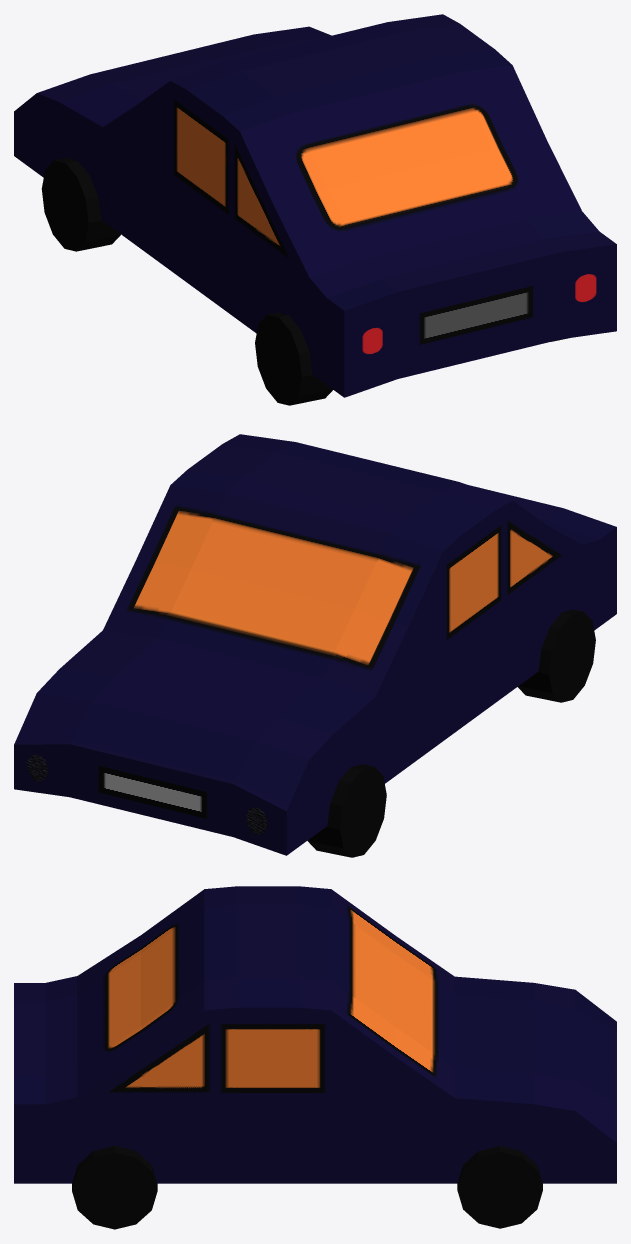
The model's file is samochód.fbx.
The picture shows the model from 3 angles, top to bottom: view 1: azimuth 30°, elevation 25°; view 2: azimuth 150°, elevation 25°; view 3: azimuth 270°, elevation 25°; orthographic projection. The views are drawn at different scales.
Visible parts, largest first — view 1: node_id4, node_id6, node_id8; view 2: node_id4, node_id6, node_id8; view 3: node_id4, node_id12, node_id10.
Part boxes in pixels (x1,y1,x2,y2): node_id4: (14,14,616,397); node_id6: (41,158,120,251); node_id8: (255,312,332,405); node_id4: (14,434,616,855); node_id6: (307,764,386,857); node_id8: (518,609,595,702); node_id4: (14,886,616,1183); node_id12: (72,1146,157,1229); node_id10: (457,1146,542,1228).
Bounding box in the file's own units: 0.512 × 0.3954 × 0.9761.
Materials: 5 (1 with a texture image).
